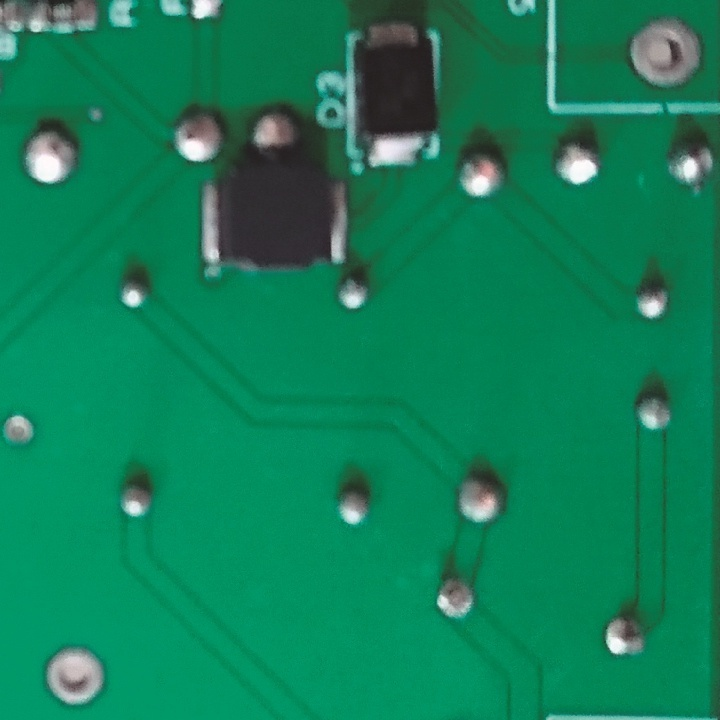F: (626, 17, 707, 89), (40, 643, 112, 712), (1, 411, 39, 453)
